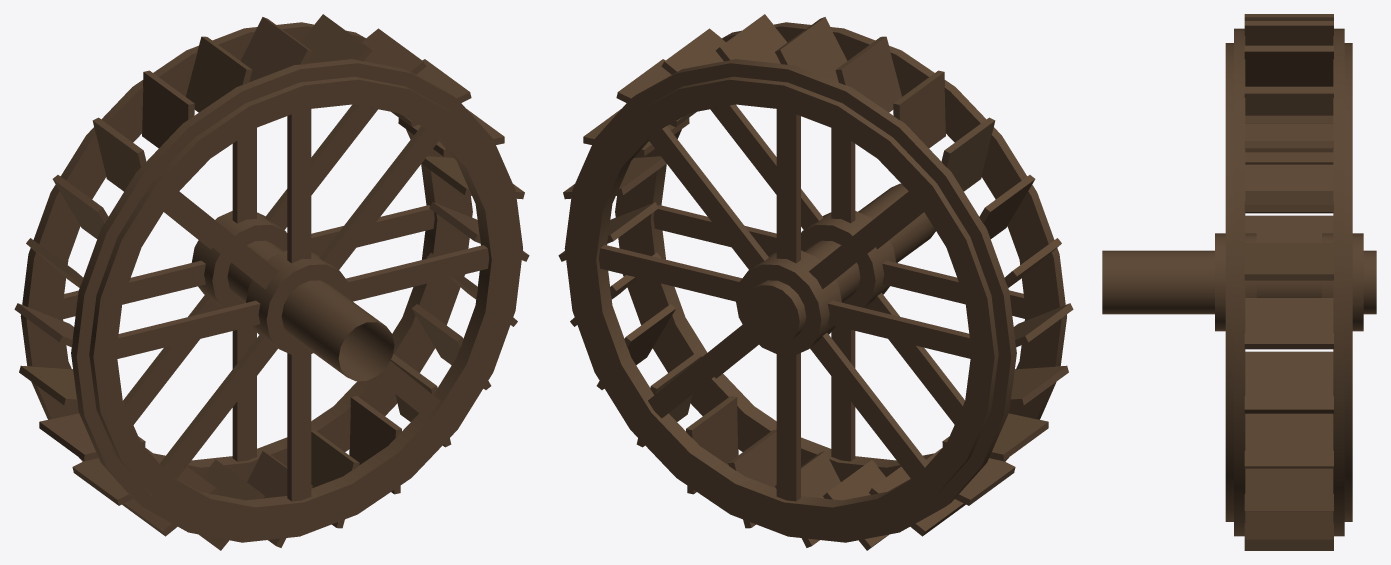
Rendered from water wheel.fbx.
3 renders of one model, left to right at view 1: azimuth 30°, elevation 25°; view 2: azimuth 150°, elevation 25°; view 3: azimuth 270°, elevation 25°, orthographic.
Parts seen in each view (by area): view 1: base_low, flaps_low, mechanism_low; view 2: base_low, flaps_low, mechanism_low; view 3: flaps_low, base_low, mechanism_low.
Boxes of the visible parts, x1,y1,x2,y2 form: base_low: (20, 22, 522, 542); flaps_low: (14, 14, 529, 550); mechanism_low: (227, 240, 394, 381); base_low: (564, 22, 1066, 542); flaps_low: (558, 14, 1073, 550); mechanism_low: (744, 183, 935, 344); flaps_low: (1244, 14, 1333, 550); base_low: (1215, 28, 1363, 536); mechanism_low: (1102, 250, 1376, 314).
Bounding box in the file's own units: 751 × 751 × 384.
